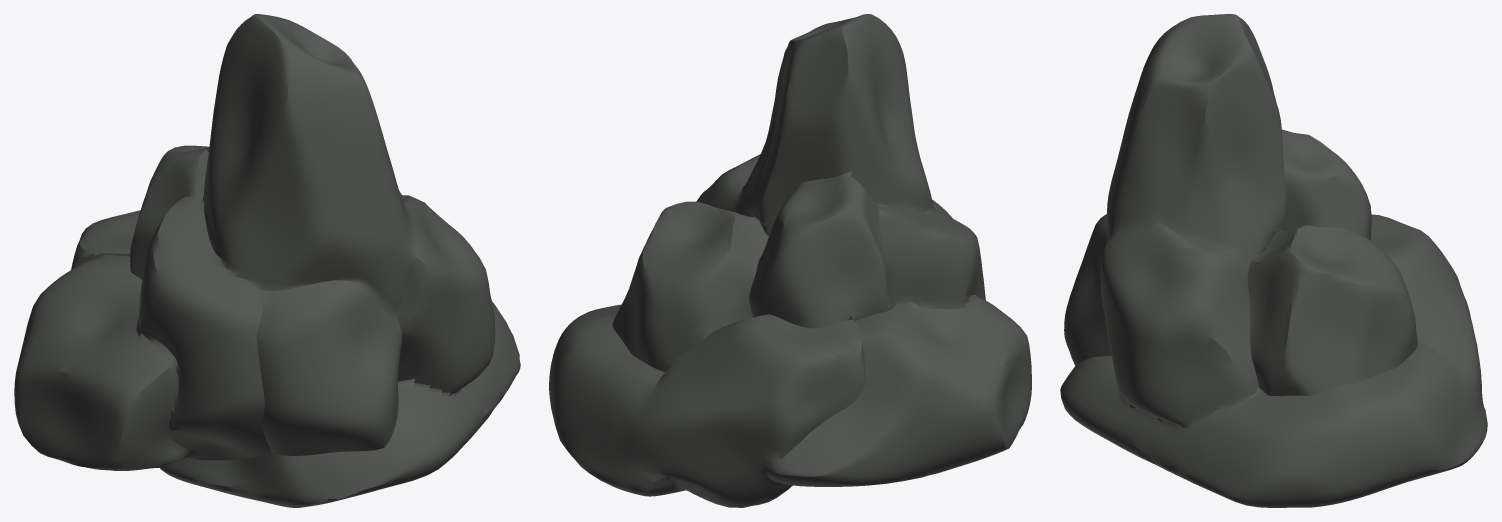
Rendered from rocks-4.glb.
3 renders of one model, left to right at view 1: azimuth 30°, elevation 25°; view 2: azimuth 150°, elevation 25°; view 3: azimuth 270°, elevation 25°, orthographic. The views are drawn at different scales.
Visible parts, largest first — view 1: Environment_Cliff3; view 2: Environment_Cliff3; view 3: Environment_Cliff3.
Part boxes in pixels (x1,y1,x2,y2): Environment_Cliff3: (14,14,520,507); Environment_Cliff3: (549,14,1031,507); Environment_Cliff3: (1060,14,1487,507).
Size of the model in its own units: 6.86 by 6.17 by 5.95.
Materials: 1 (1 with a texture image).
